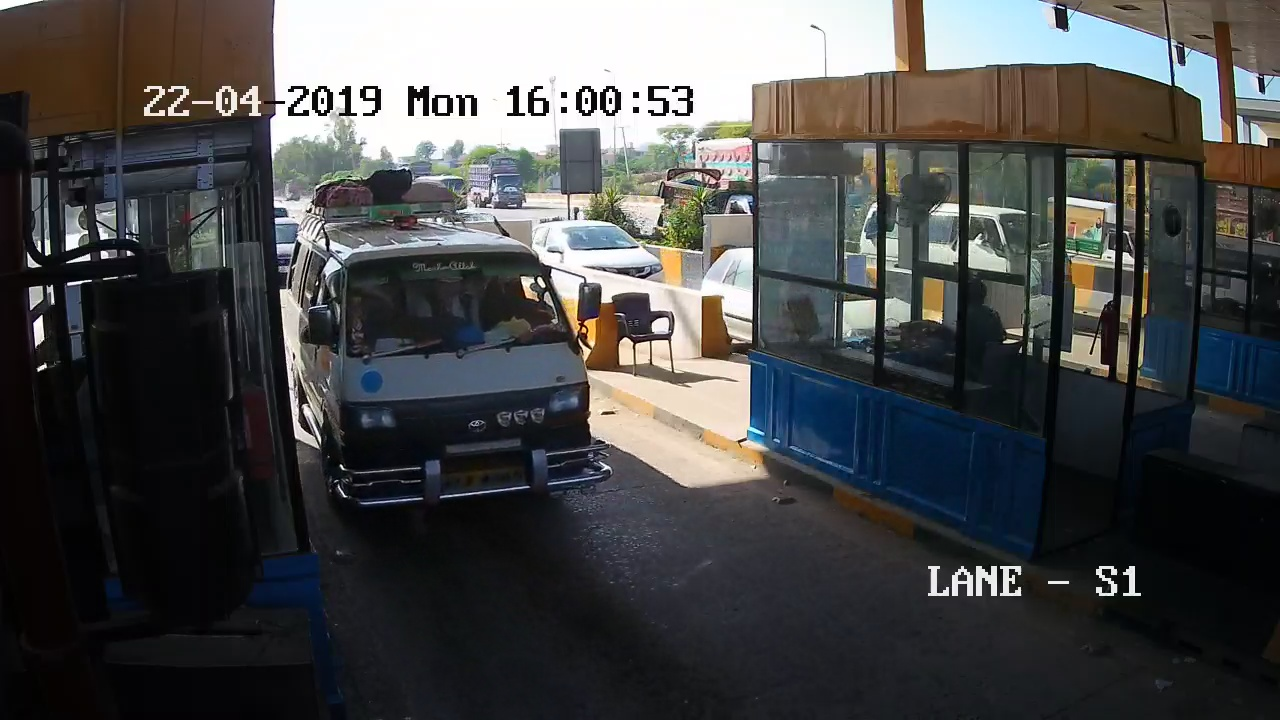car: (288, 174, 619, 567)
